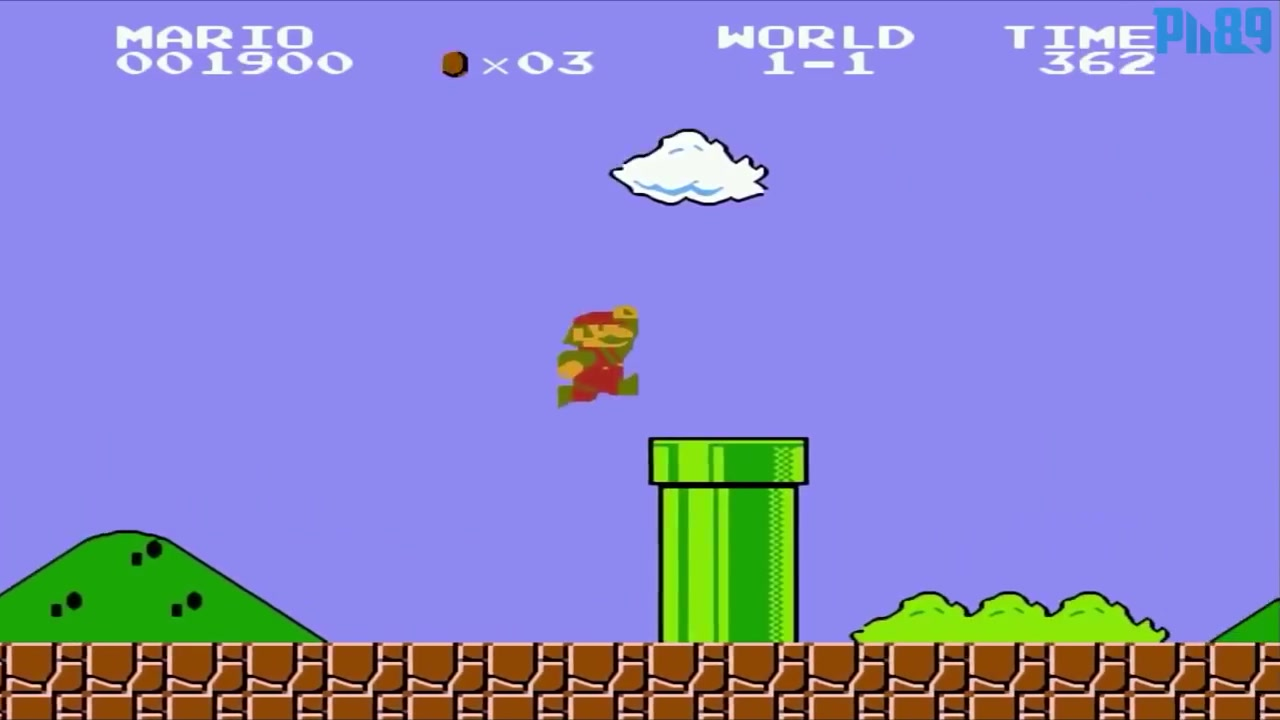mario: (546, 302, 645, 418)
